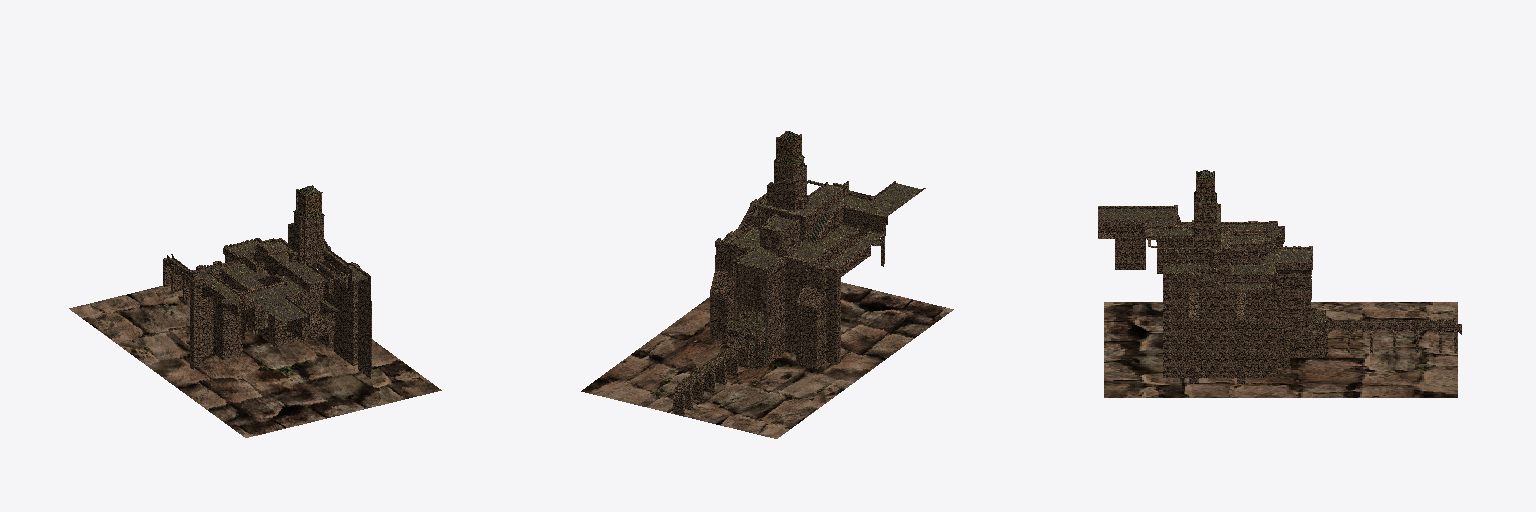
The picture shows the model from 3 angles: view 1: azimuth 30°, elevation 25°; view 2: azimuth 150°, elevation 25°; view 3: azimuth 270°, elevation 25°; orthographic projection.
Visible parts, largest first — view 1: mesh0, mesh11, mesh10, mesh7, mesh8; view 2: mesh0, mesh11, mesh10, mesh7, mesh8, mesh3, mesh4, mesh9; view 3: mesh0, mesh10, mesh11, mesh8, mesh7.
Part boxes in pixels (bbox=[...]): mesh0: bbox=[69, 209, 441, 437]; mesh11: bbox=[196, 211, 367, 322]; mesh10: bbox=[257, 213, 351, 292]; mesh7: bbox=[207, 187, 321, 339]; mesh8: bbox=[195, 223, 369, 320]; mesh0: bbox=[581, 155, 953, 438]; mesh11: bbox=[725, 156, 921, 268]; mesh10: bbox=[759, 158, 847, 251]; mesh7: bbox=[747, 132, 887, 266]; mesh8: bbox=[721, 164, 925, 267]; mesh3: bbox=[735, 271, 767, 303]; mesh4: bbox=[735, 291, 785, 364]; mesh9: bbox=[684, 131, 887, 379]; mesh0: bbox=[1098, 198, 1461, 397]; mesh10: bbox=[1147, 203, 1265, 273]; mesh11: bbox=[1098, 207, 1310, 287]; mesh8: bbox=[1098, 204, 1274, 289]; mesh7: bbox=[1145, 173, 1271, 285].
Bounding box in the file's own units: 99.45 × 91.02 × 159.
13 materials, 10 textured.